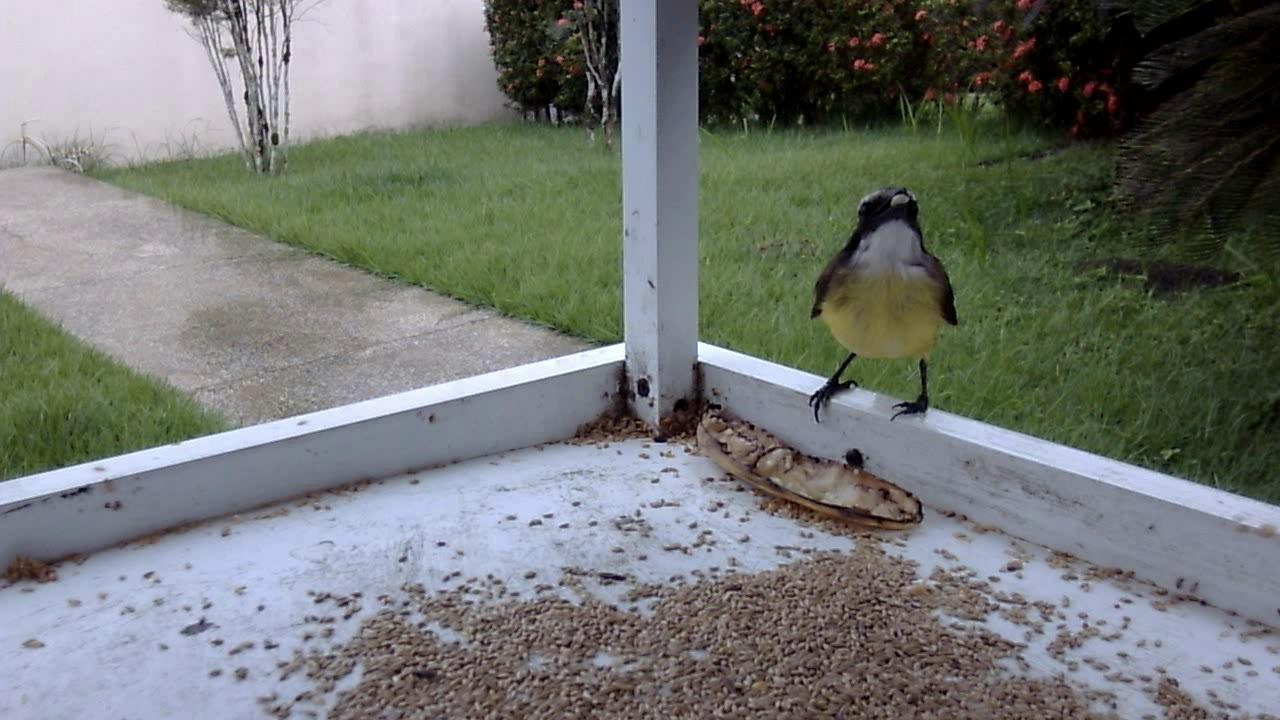bem_te_vi: (797, 178, 962, 447)
